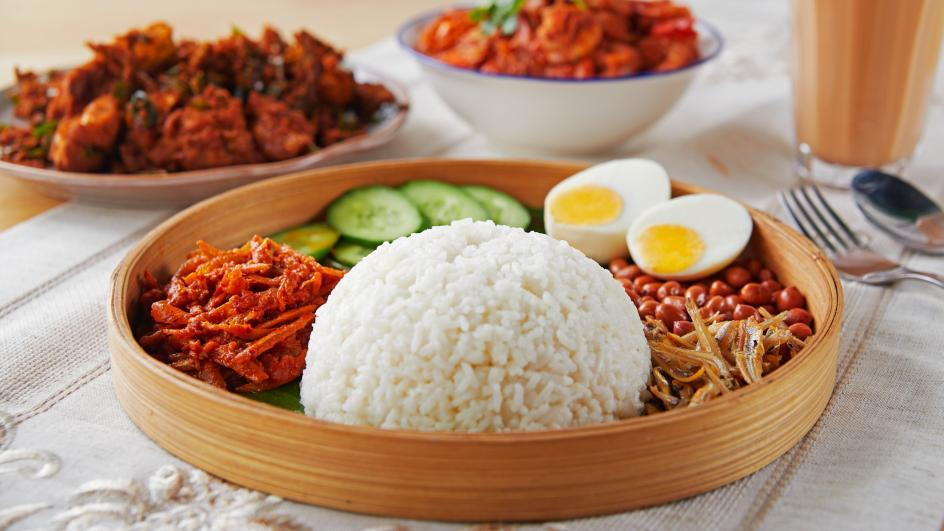Anchovies: (644, 305, 806, 411)
Boiled-Egg: (545, 160, 756, 280)
Cucumber: (269, 181, 532, 273)
Peanuts: (609, 255, 813, 345)
Rice: (297, 221, 654, 435)
Sambal: (133, 235, 344, 391)
